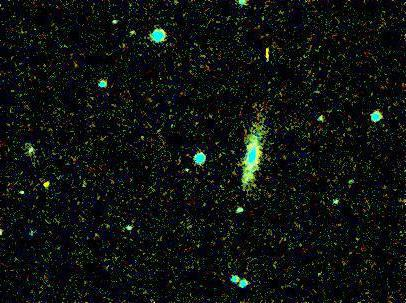star: (33, 170, 63, 200)
